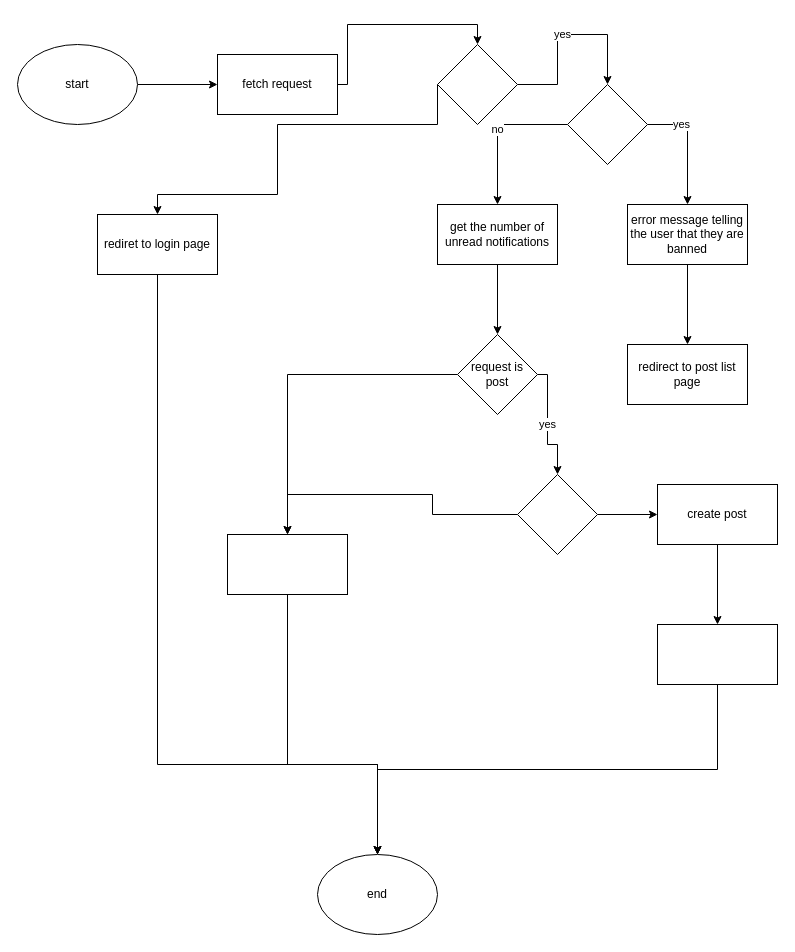
The diagram is 795 pixels wide and 952 high, and some of its shapes have lost their labels. The shapes that lost their labels are listed below. From the top down, each one's centre as x and y in pixels, then its label:
At point 477,84: "logged in".
At point 607,124: "profile banned".
At point 557,514: "there is content and title".
At point 287,564: "render post form page".
At point 717,654: "redirect to post detail page".
